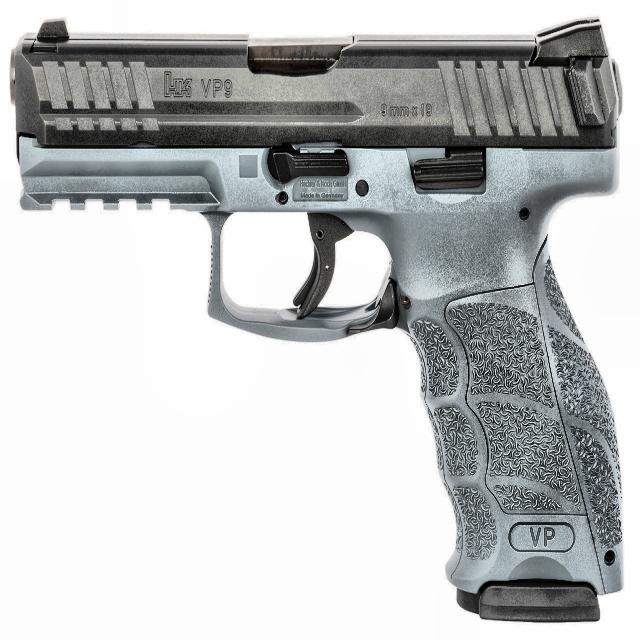HKVP9: (10, 13, 626, 624)
